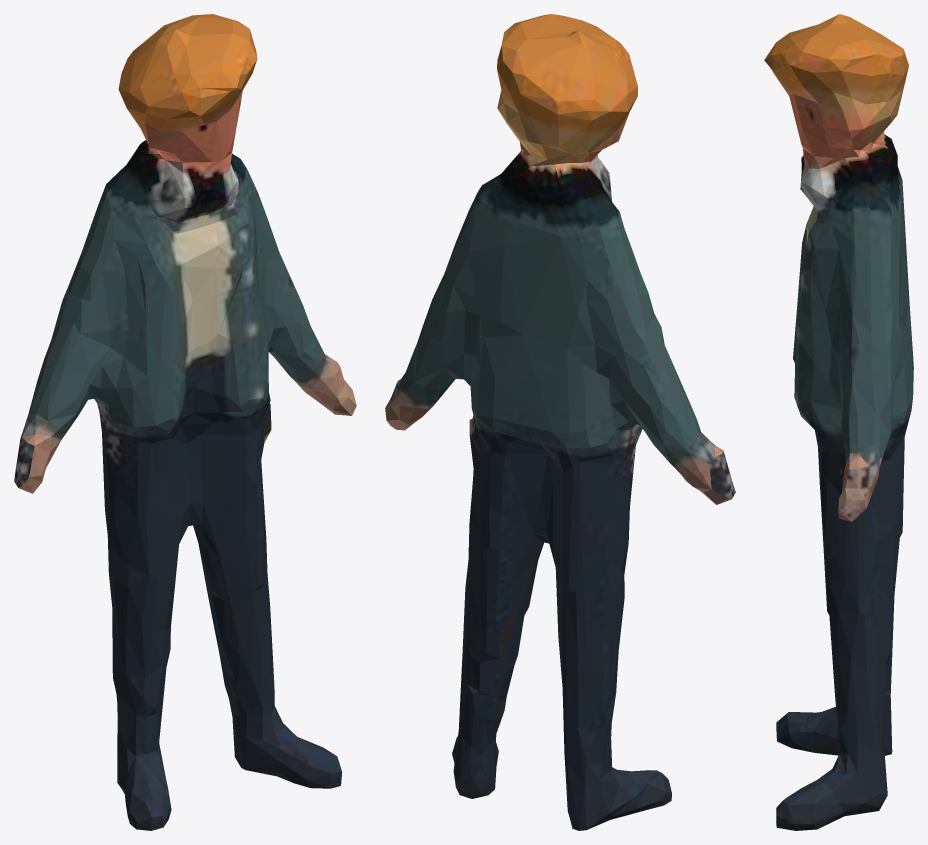
Rendered from habitant-loin.glb.
3 views of the same model, side by side, from view 1: azimuth 30°, elevation 25°; view 2: azimuth 150°, elevation 25°; view 3: azimuth 270°, elevation 25° (orthographic). The views are drawn at different scales.
Visible parts, largest first — view 1: habitant; view 2: habitant; view 3: habitant.
Boxes of the visible parts, x1,y1,x2,y2 form: habitant: (14,14,356,830); habitant: (385,14,735,830); habitant: (764,14,913,830).
Size of the model in its own units: 0.4608 by 1.01 by 0.1807.
Materials: 1 (1 with a texture image).
